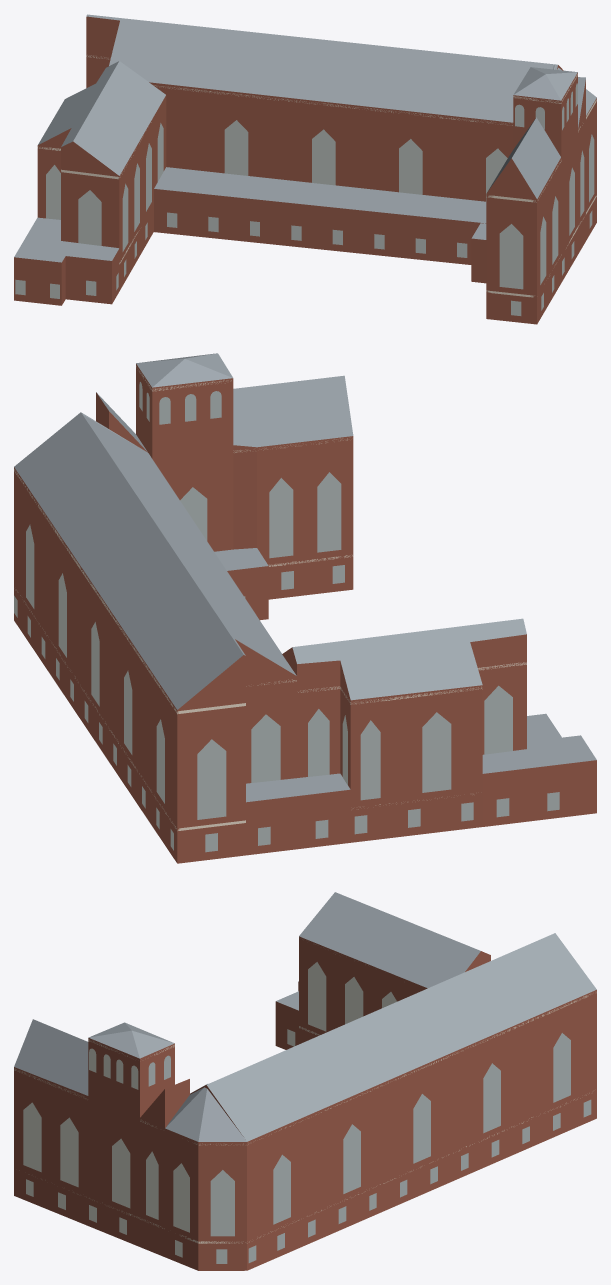
Rendered from detail.glb.
3 views of the same model, one above another, from view 1: azimuth 30°, elevation 25°; view 2: azimuth 150°, elevation 25°; view 3: azimuth 270°, elevation 25° (orthographic). The views are drawn at different scales.
Visible parts, largest first — view 1: terracotta, roof, window, trim; view 2: terracotta, roof, window, trim; view 3: terracotta, roof, window, trim.
Part boxes in pixels (bbox=[...]): terracotta: bbox=[14, 16, 596, 324]; roof: bbox=[14, 14, 596, 262]; window: bbox=[15, 83, 594, 315]; trim: bbox=[37, 55, 596, 297]; terracotta: bbox=[14, 364, 596, 863]; roof: bbox=[14, 353, 596, 802]; window: bbox=[14, 382, 559, 852]; trim: bbox=[14, 366, 526, 830]; terracotta: bbox=[14, 936, 596, 1270]; roof: bbox=[14, 892, 596, 1141]; window: bbox=[23, 962, 591, 1263]; trim: bbox=[14, 937, 596, 1243].
Size of the model in its own units: 56.27 by 20 by 53.28.
